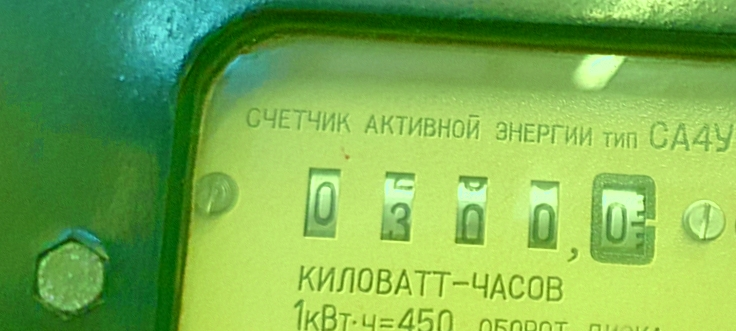0: (455, 198, 485, 248), (600, 198, 630, 248), (310, 176, 338, 229), (526, 201, 557, 248)
3: (383, 198, 413, 243)
screen: (281, 150, 667, 275)
